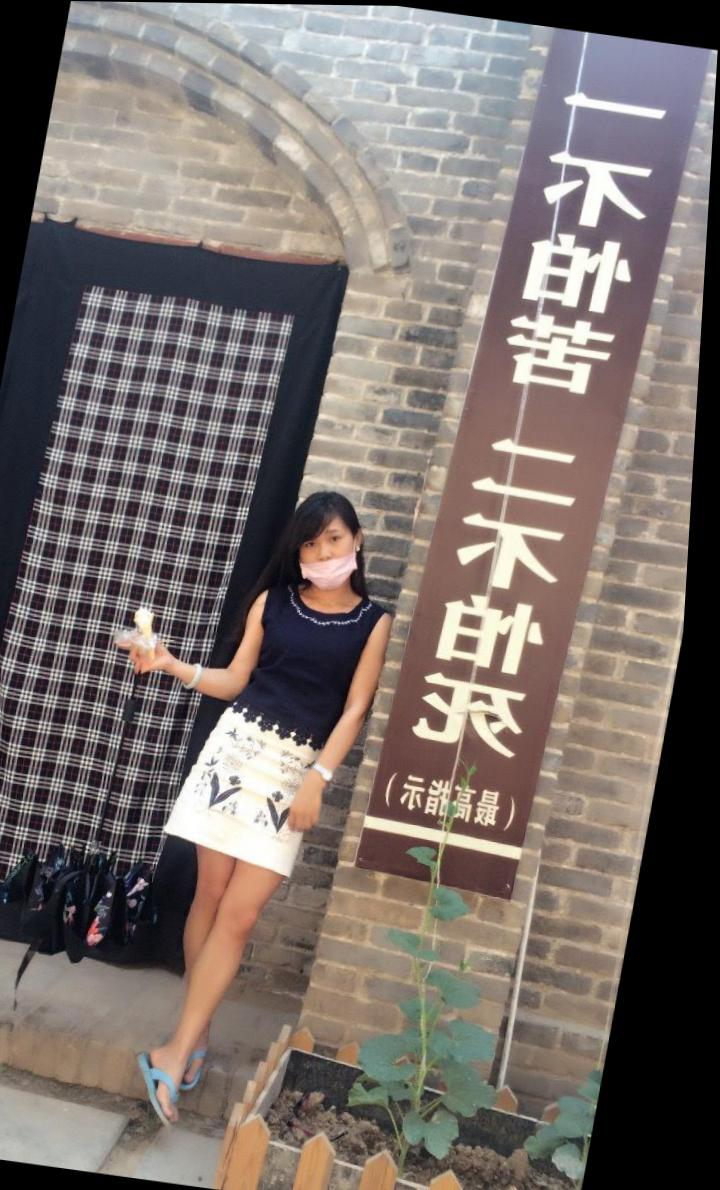WRONG: (295, 522, 368, 593)
